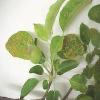Apple rust leaf: (53, 0, 94, 36), (4, 29, 37, 62), (60, 32, 86, 59), (78, 21, 99, 51), (81, 63, 94, 81)
